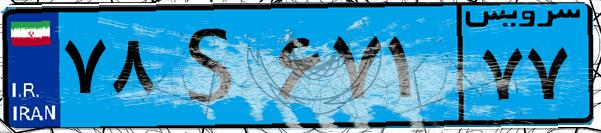1: (385, 28, 445, 110)
6: (270, 28, 330, 110)
7: (330, 28, 385, 110), (57, 26, 110, 100), (475, 38, 525, 113), (525, 38, 570, 115)
8: (110, 28, 158, 98)
S: (158, 12, 270, 120)
